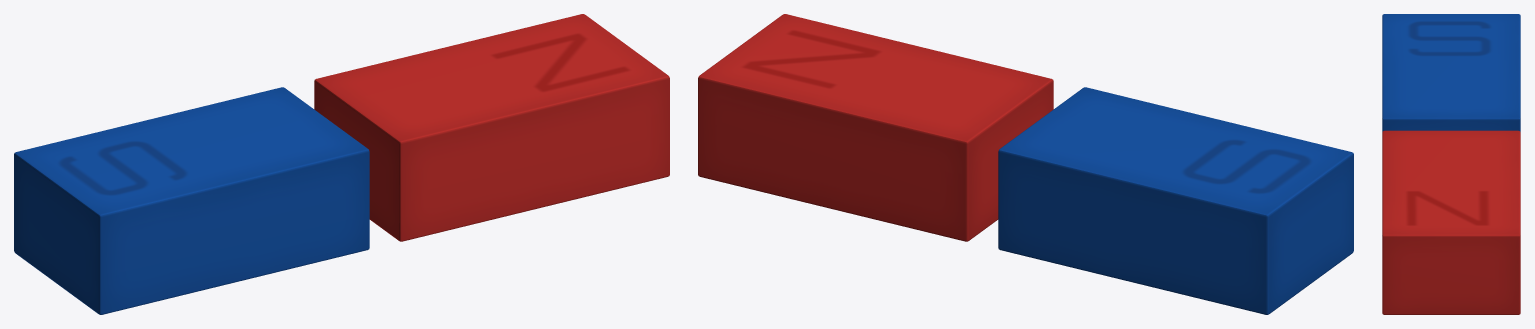
Rendered from magnet.fbx.
3 views of the same model, side by side, from view 1: azimuth 30°, elevation 25°; view 2: azimuth 150°, elevation 25°; view 3: azimuth 270°, elevation 25° (orthographic). The views are drawn at different scales.
Visible parts, largest first — view 1: south_pole_geo, north_pole_geo; view 2: south_pole_geo, north_pole_geo; view 3: north_pole_geo, south_pole_geo.
Part boxes in pixels (<box>): south_pole_geo: <box>14,87,369,314</box>; north_pole_geo: <box>314,14,669,241</box>; south_pole_geo: <box>998,87,1353,314</box>; north_pole_geo: <box>698,14,1053,241</box>; north_pole_geo: <box>1382,130,1520,314</box>; south_pole_geo: <box>1382,14,1520,131</box>.
Size of the model in its own units: 7.69 by 1.3 by 2.03.
Materials: 1 (1 with a texture image).
